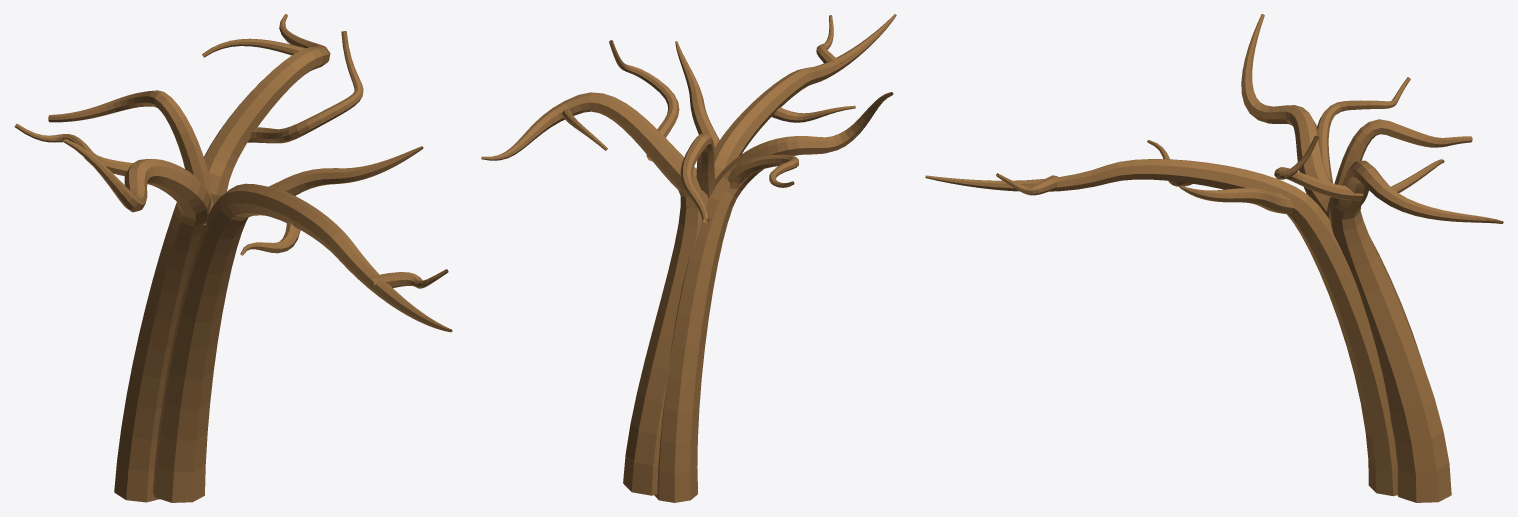
The model's file is arbre2_v3.fbx.
The picture shows the model from 3 angles, left to right: view 1: azimuth 30°, elevation 25°; view 2: azimuth 150°, elevation 25°; view 3: azimuth 270°, elevation 25°; orthographic projection. The views are drawn at different scales.
Visible parts, largest first — view 1: BezierCurve.004, BezierCurve.008; view 2: BezierCurve.004; view 3: BezierCurve.004.
Part boxes in pixels (bbox=[...]): BezierCurve.004: bbox=[14, 14, 452, 502]; BezierCurve.008: bbox=[372, 269, 448, 288]; BezierCurve.004: bbox=[481, 14, 896, 502]; BezierCurve.004: bbox=[925, 14, 1503, 502].
Size of the model in its own units: 1006 by 1253 by 1610.
